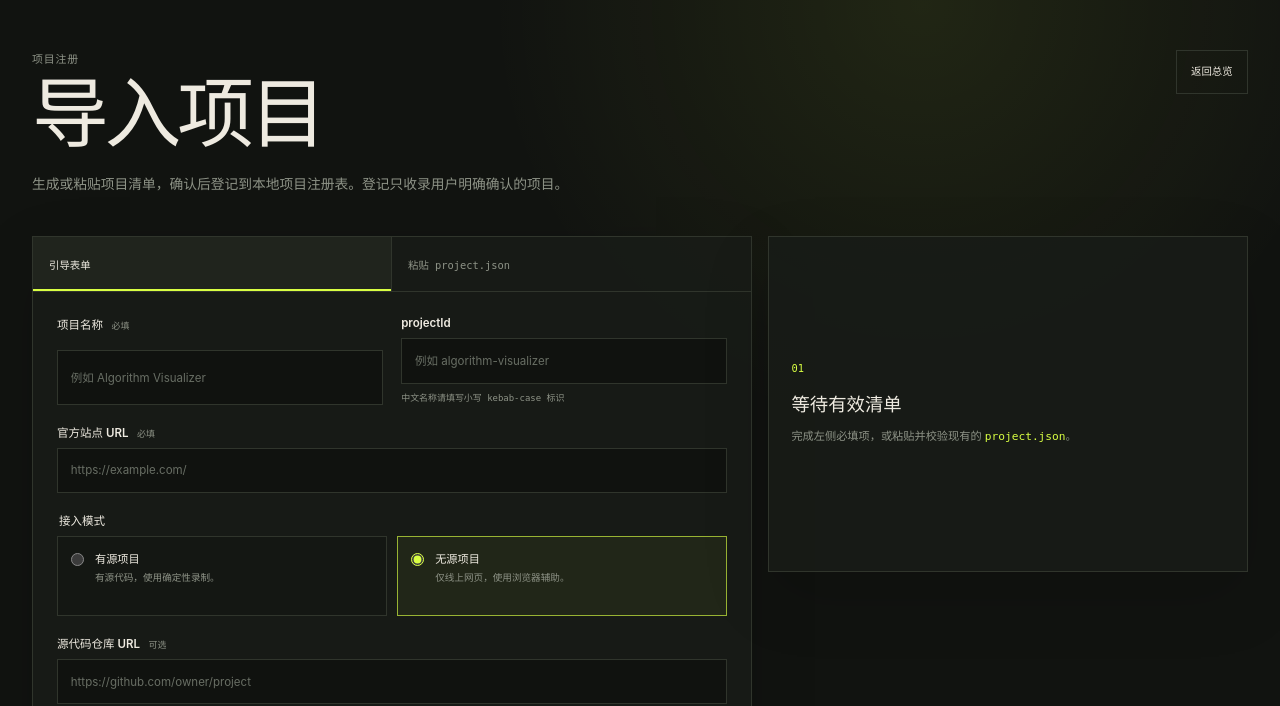
Test: project import page › shows the runtime error when registration fails
The image size is (1280, 706).
Type "Demo Project" into the field with test id "import-name". click: x=220, y=378
box: [57, 350, 383, 405]
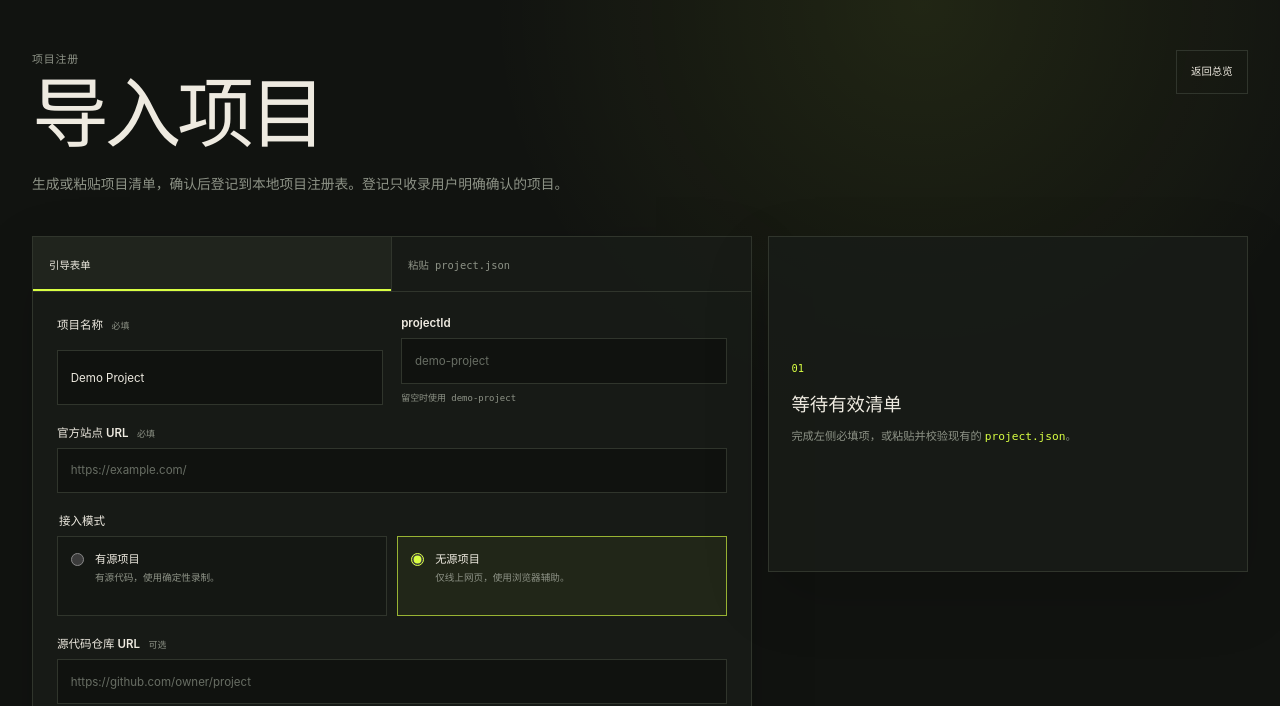
Type "https://demo.example.com/" into the field with test id "import-url". click: x=392, y=470
box: [57, 448, 727, 493]
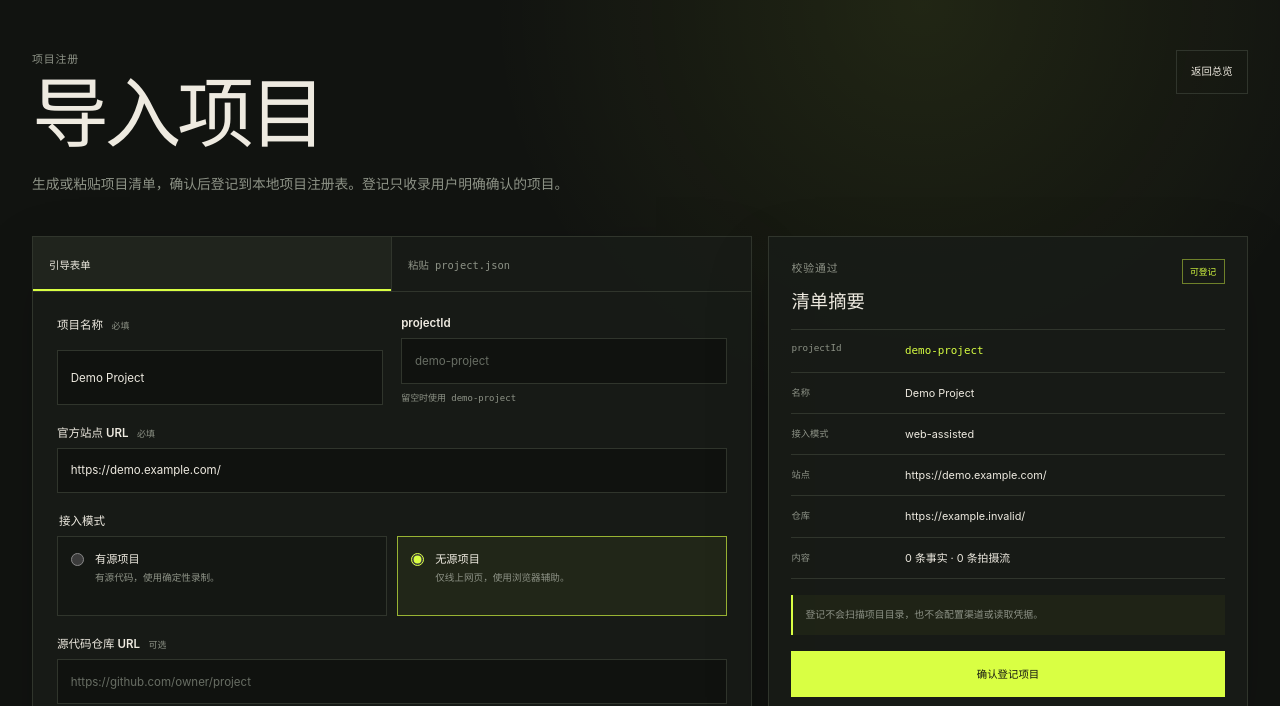
Click the button with test id "import-confirm". click: x=1008, y=674
box: [791, 651, 1225, 697]
(page scrolled)
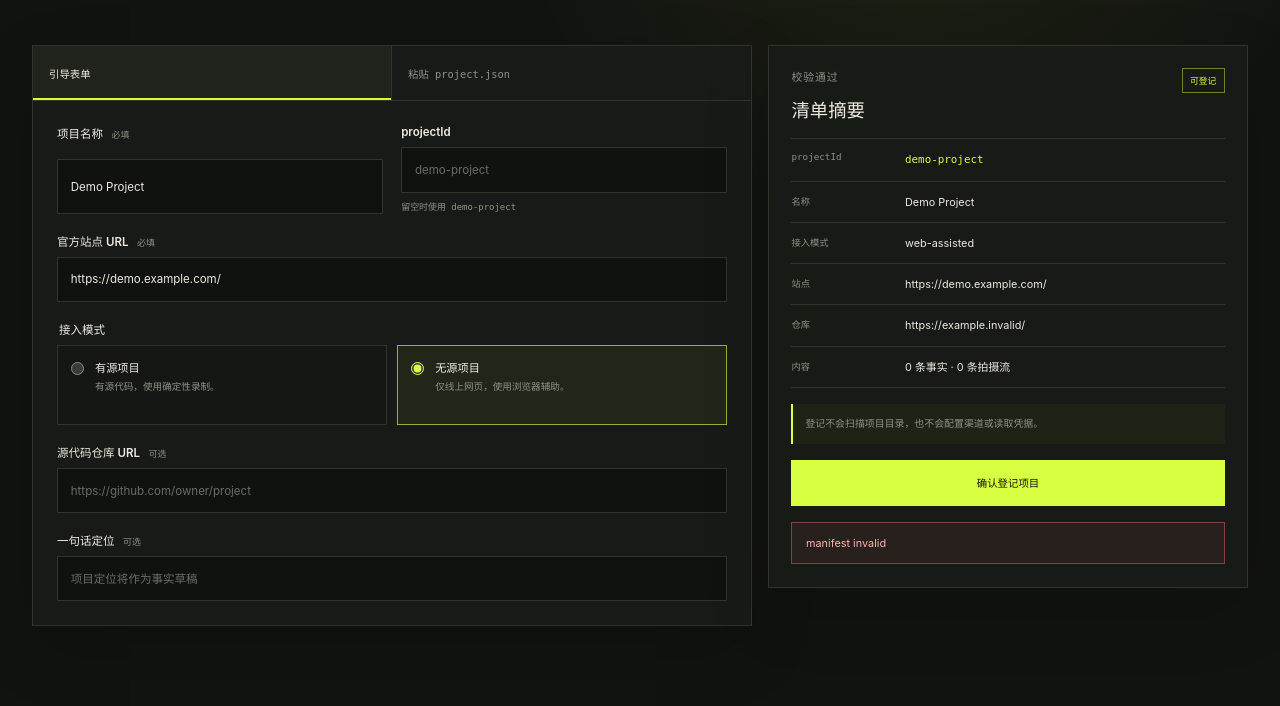
Result: the message with test id "import-submit-error" reads "manifest invalid" at [806, 536, 886, 550]
